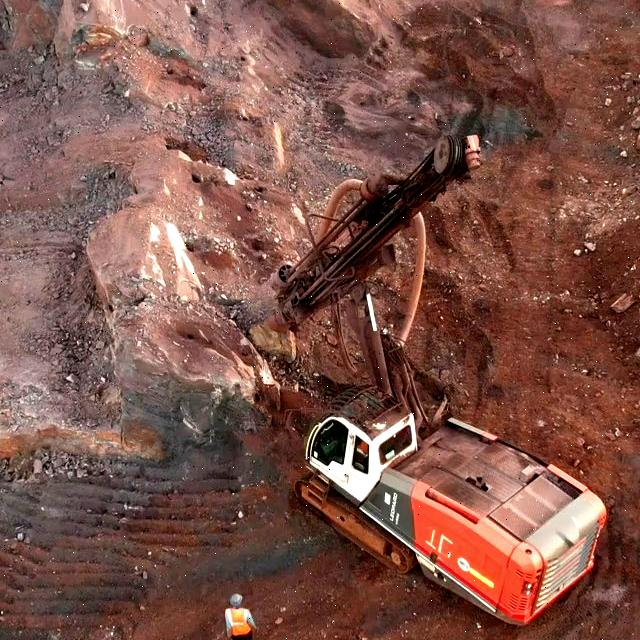Blast rig: (309, 421, 522, 575)
person: (220, 595, 261, 640)
